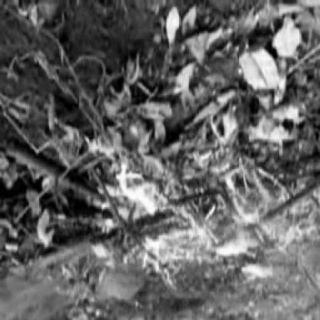Fire: (90, 121, 312, 301)
